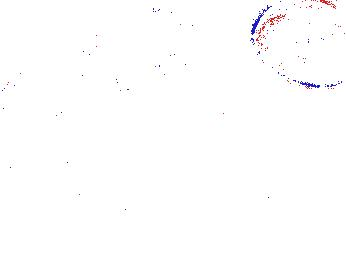moon jellyfish: (252, 1, 346, 90), (98, 11, 200, 92), (1, 7, 39, 90)
